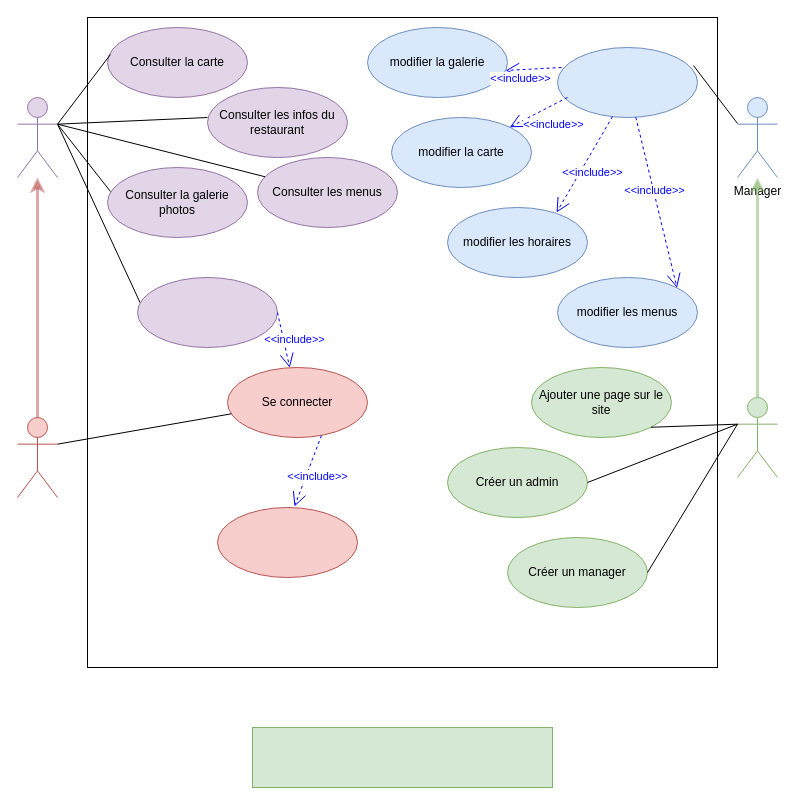
Some shapes in this 798 by 805 pixel diagram are drawn without their labels. The centre of each missing label's shape, as x and y in pixels:
Admin: the point at 757,437
Client: the point at 37,457
Diagramme d'utilisation: the point at 402,757
Réserver une table: the point at 287,542
S'inscrire: the point at 207,312
se connecter a la page admin: the point at 627,82
Visiteur: the point at 37,137
